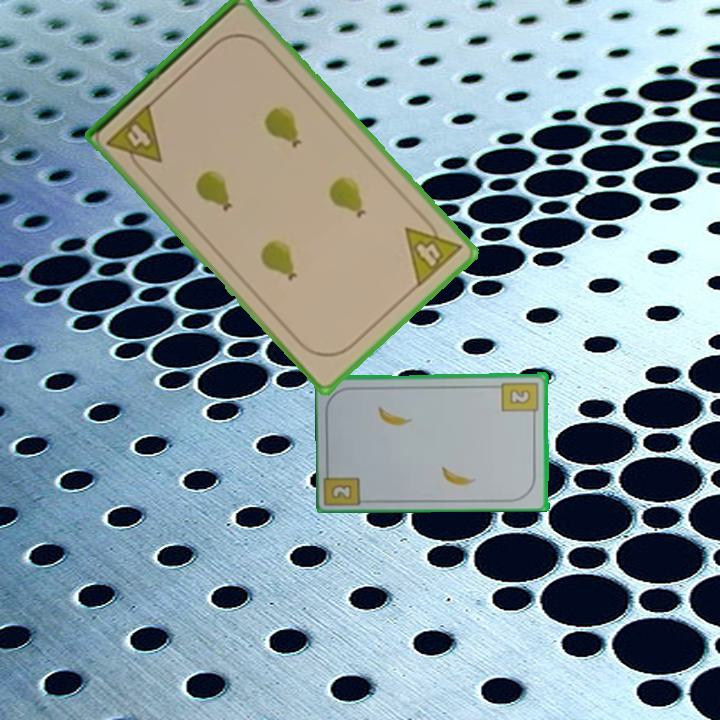2b: (499, 378, 541, 420), (328, 481, 355, 502)
4p: (401, 210, 466, 290), (103, 99, 166, 178)
